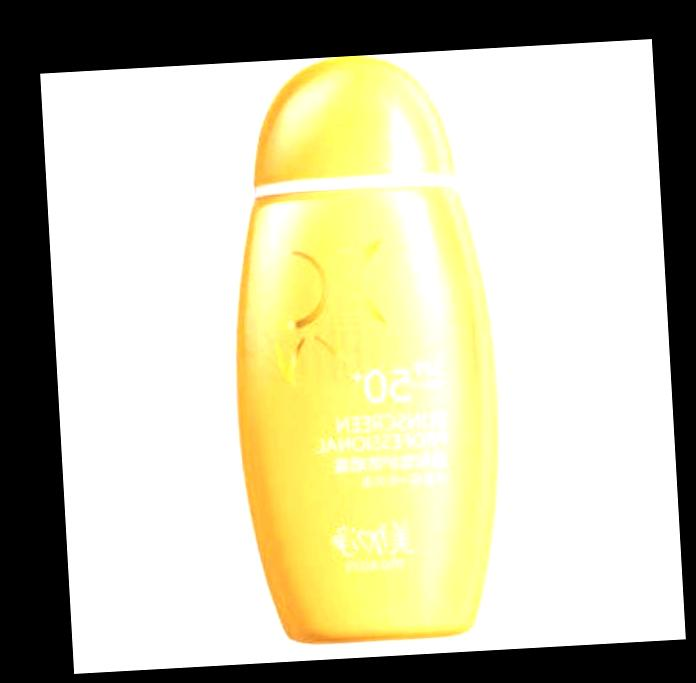cosmetic: (219, 49, 514, 650)
